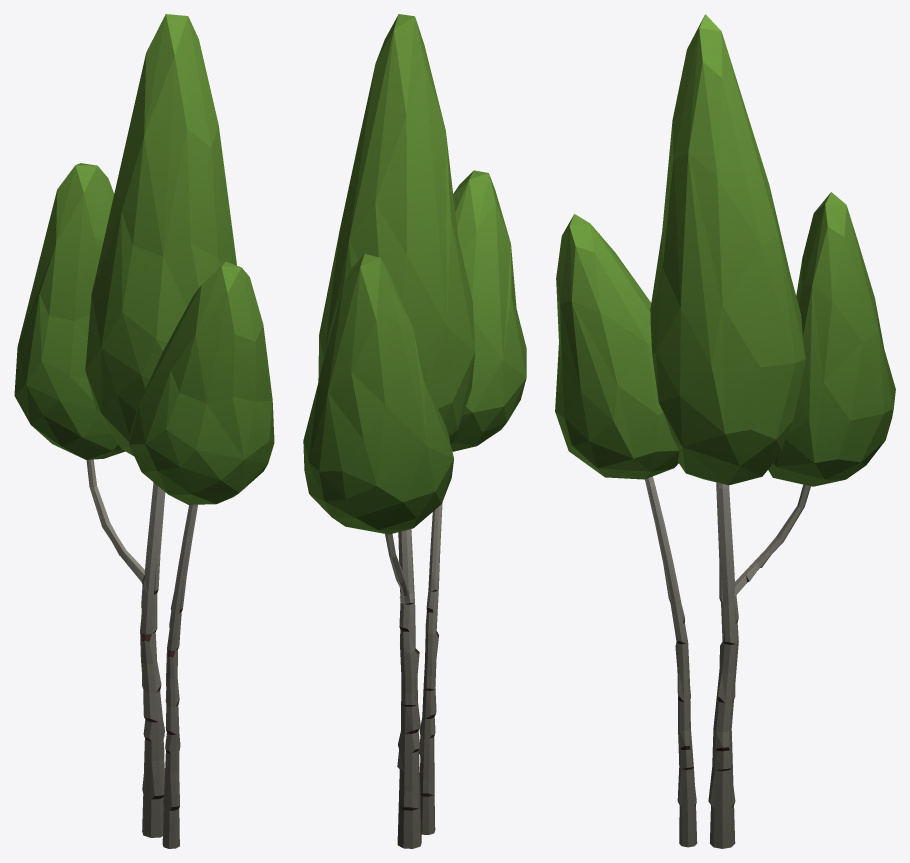
The model's file is ZLP_Plant_J_1.FBX.
The picture shows the model from 3 angles, left to right: view 1: azimuth 30°, elevation 25°; view 2: azimuth 150°, elevation 25°; view 3: azimuth 270°, elevation 25°; orthographic projection.
Visible parts, largest first — view 1: ZLP_Plant_J_1; view 2: ZLP_Plant_J_1; view 3: ZLP_Plant_J_1.
Boxes of the visible parts, bbox=[...] form: ZLP_Plant_J_1: bbox=[14, 14, 274, 848]; ZLP_Plant_J_1: bbox=[303, 14, 526, 848]; ZLP_Plant_J_1: bbox=[555, 14, 895, 848].
Bounding box in the file's own units: 217 × 1012 × 376.
